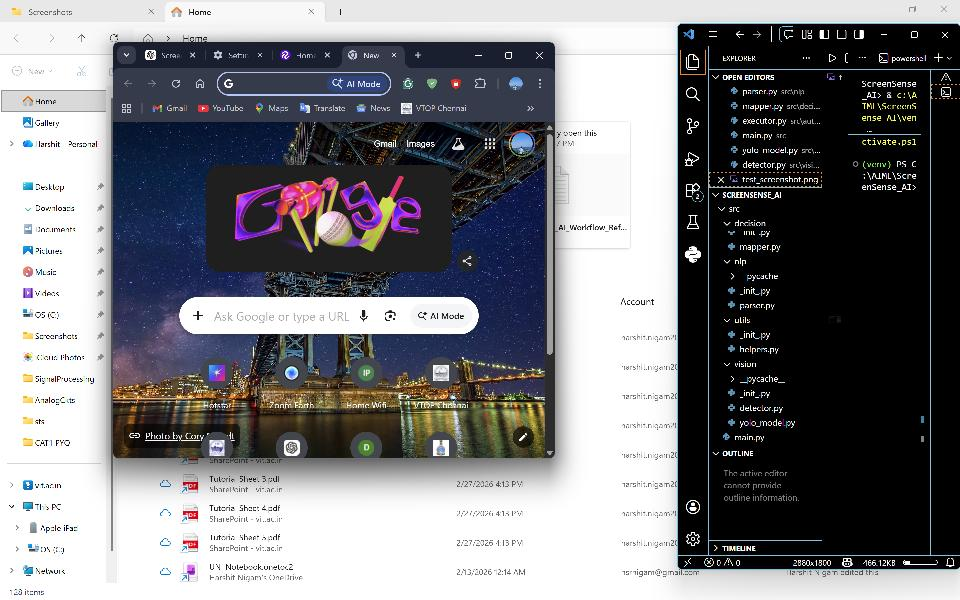close_button: (527, 46, 550, 64), (935, 2, 954, 20), (936, 27, 954, 43)
maximize_button: (499, 45, 518, 67), (906, 26, 925, 43), (905, 2, 922, 18)
minimize_button: (469, 44, 489, 67), (876, 26, 896, 44), (874, 3, 892, 18)
